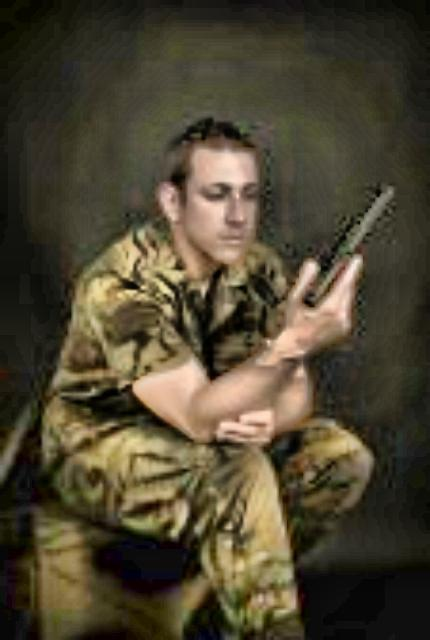pistol: (290, 176, 388, 304)
